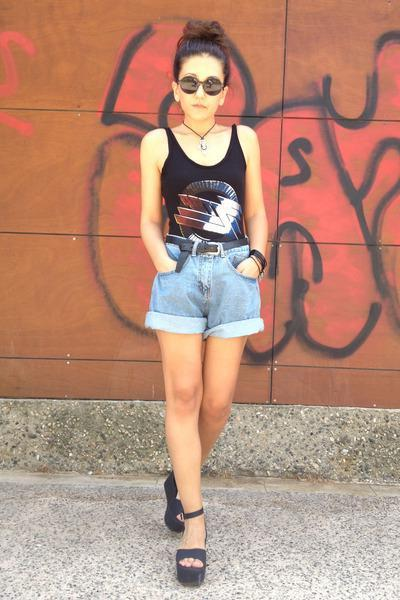Shorts: (144, 242, 263, 334)
vest: (145, 123, 254, 243)
